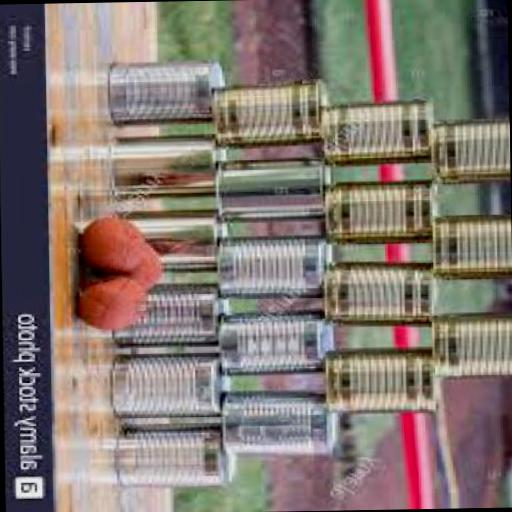metal: (320, 102, 442, 171), (108, 62, 232, 128), (210, 84, 329, 150), (220, 393, 336, 460), (330, 350, 440, 418), (219, 158, 330, 224), (117, 424, 228, 490), (218, 238, 334, 300), (113, 139, 229, 200), (330, 184, 442, 246), (114, 358, 225, 420), (222, 316, 332, 378), (117, 212, 224, 274), (331, 266, 438, 328), (432, 122, 510, 188), (438, 216, 512, 284), (435, 315, 512, 380)
